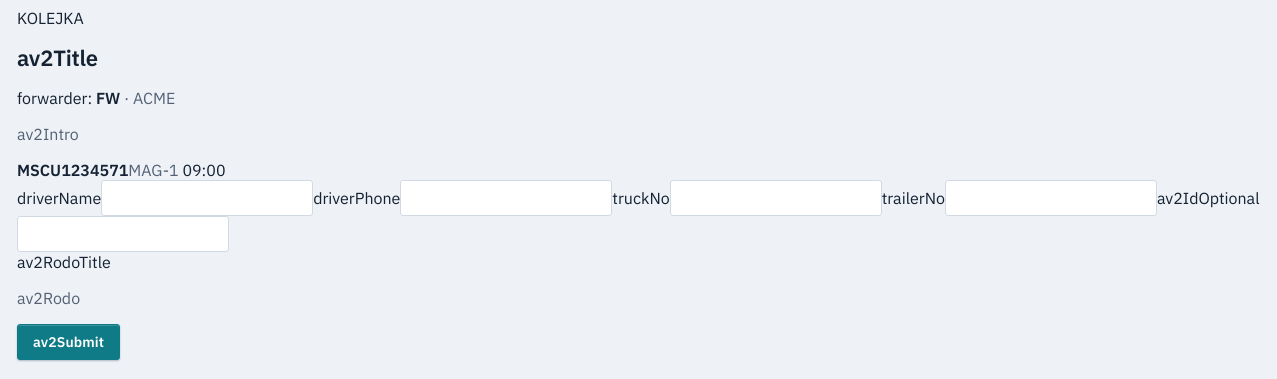
AvizoDriverFormPage › 409 already_submitted przy POST → już odpowiedziano, nie sukces
Expected: the text "MSCU1234571" is shown, x1=17 y1=160 x2=128 y2=180
Type "Jan Kowalski" into the field labelled "driverName".
click(207, 198); type("Jan Kowalski")  # box x1=101 y1=180 x2=313 y2=216
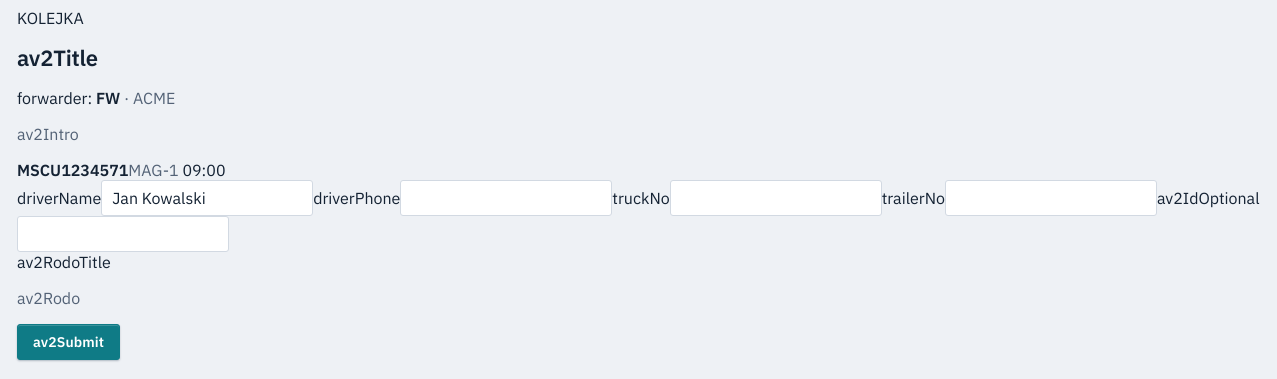
Type "600 100 200" into the field labelled "driverPhone".
click(506, 198); type("600 100 200")  # box x1=400 y1=180 x2=612 y2=216
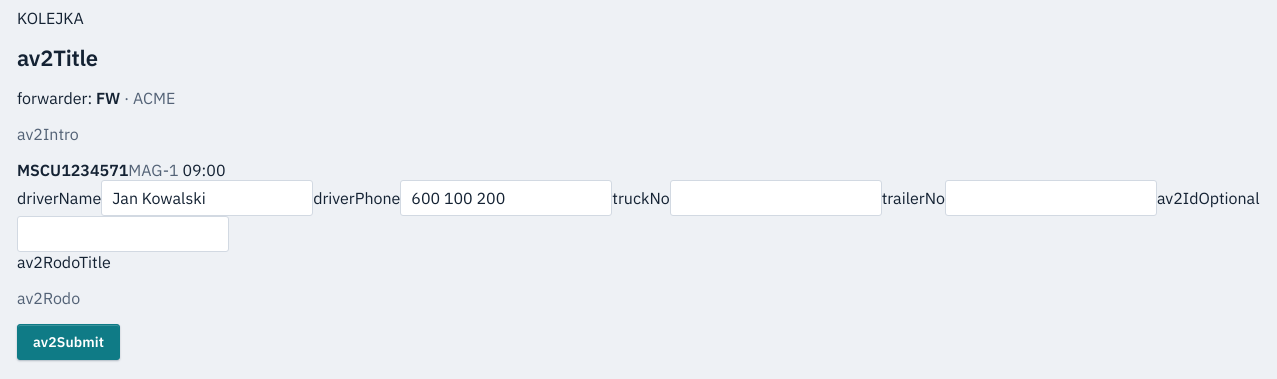
Type "WX1234A" into the field labelled "truckNo".
click(776, 198); type("WX1234A")  # box x1=670 y1=180 x2=882 y2=216
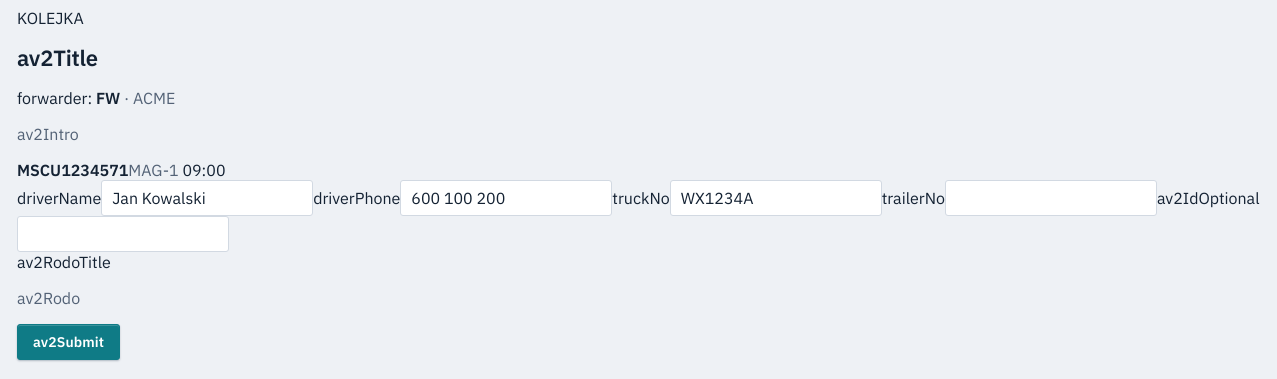
Click the button "av2Submit".
click(68, 342)  # box x1=17 y1=324 x2=120 y2=360
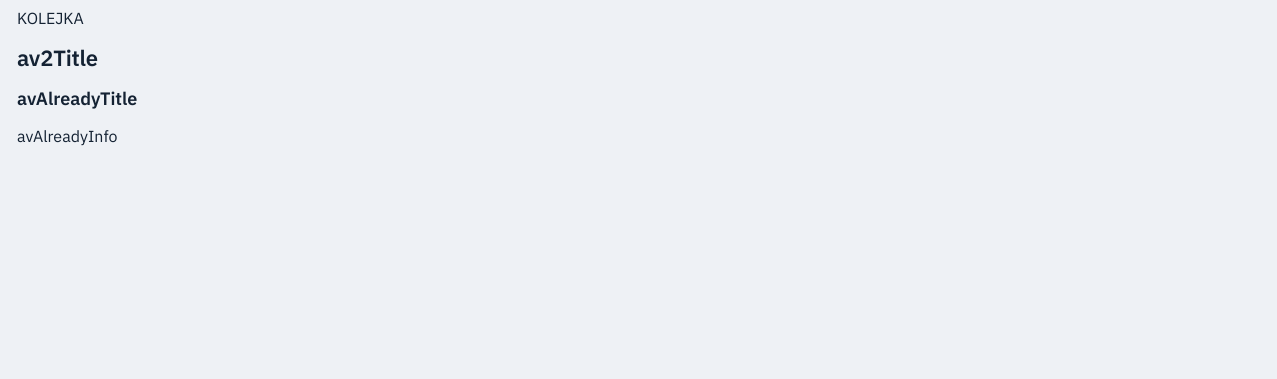
Now the heading "avAlreadyTitle" is shown, box x1=17 y1=87 x2=137 y2=110
